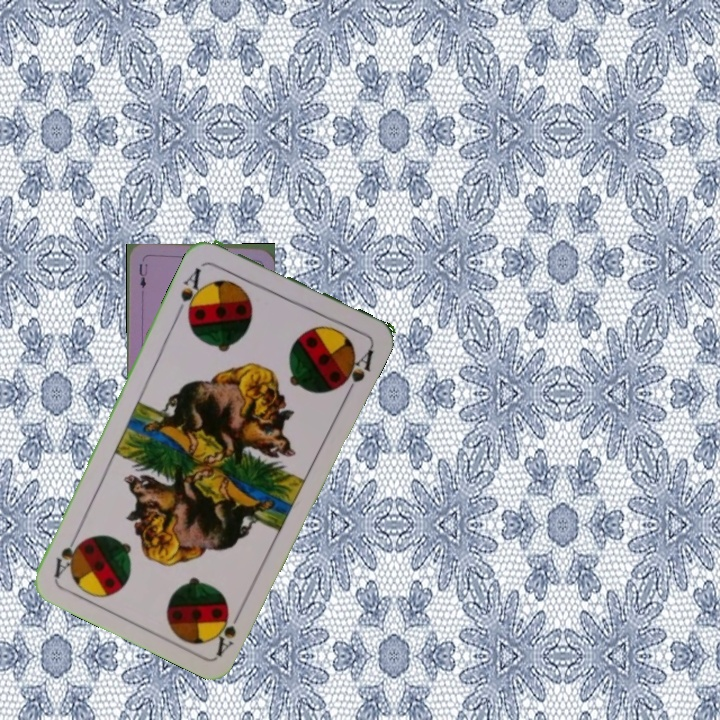EU: (135, 260, 149, 291)
SA: (173, 263, 208, 319), (213, 602, 246, 658)
